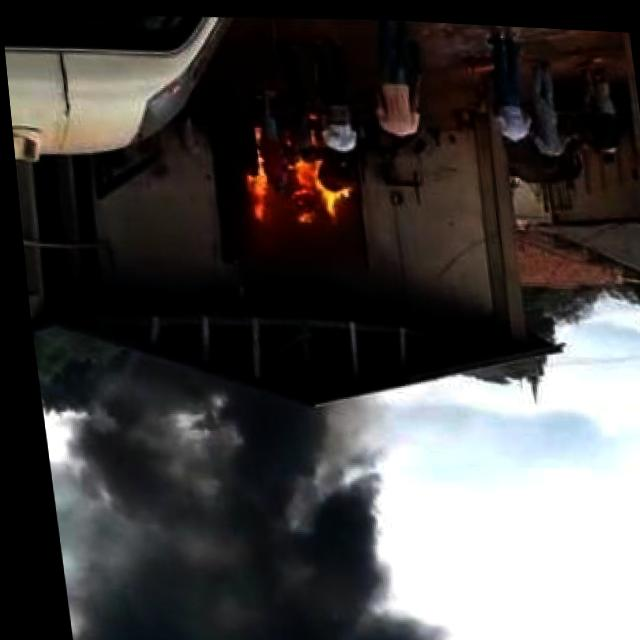no_helmet: (285, 153, 357, 230), (224, 121, 271, 229)
